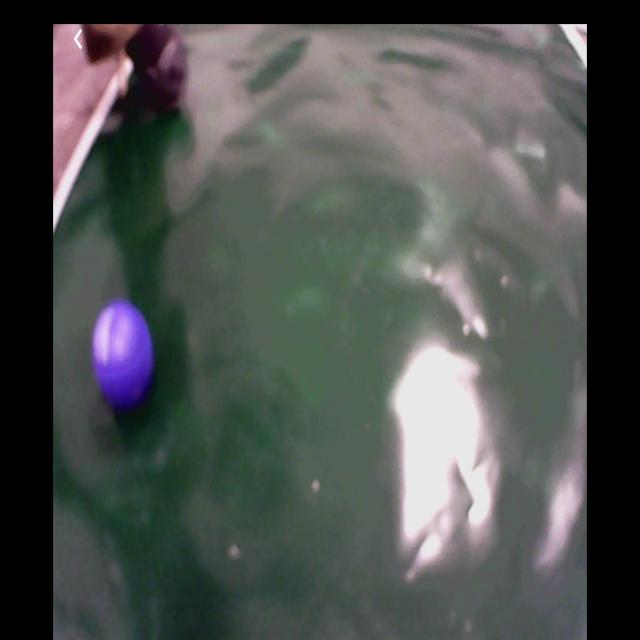ball: (93, 302, 154, 409)
